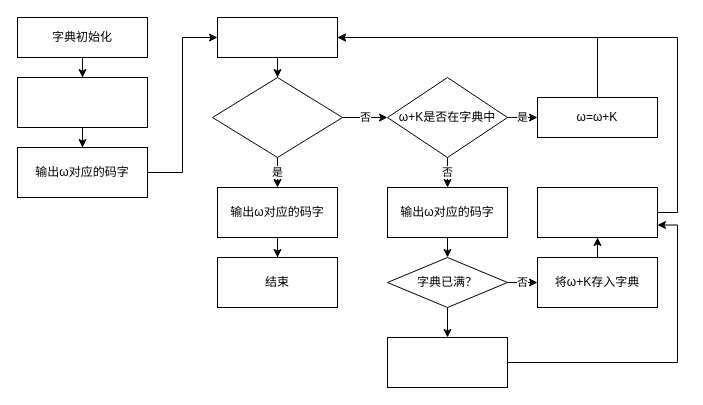
Some shapes in this 703 by 405 pixel diagram are drawn without their labels. The centre of each missing label's shape, as x and y in pixels:
"K=ω" goes at point (597, 212).
"初始化字典" goes at point (447, 362).
"读下一字符存入K" goes at point (277, 37).
"读第一个字符存入ω" goes at point (82, 102).
"输入已穷尽？" goes at point (277, 117).
